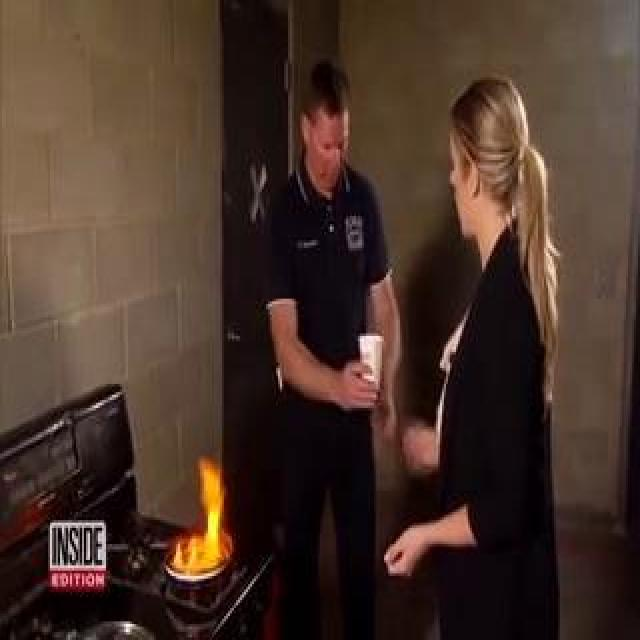Fire: (70, 112, 189, 518)
